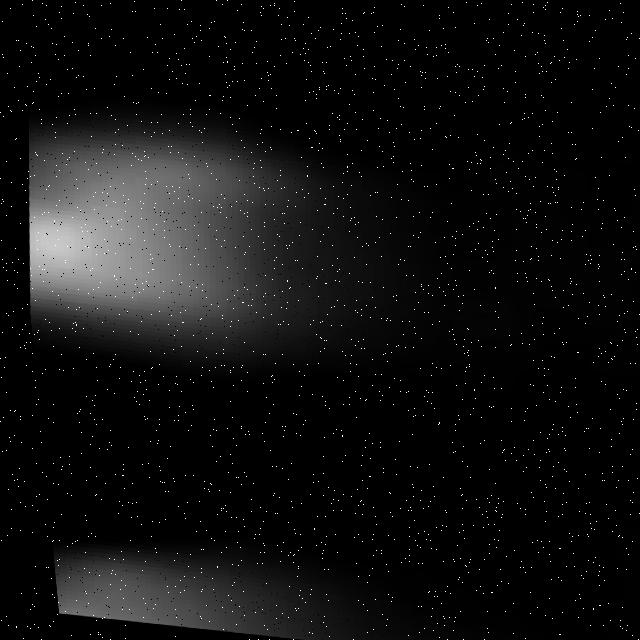person: (10, 123, 402, 376), (38, 487, 480, 640)
